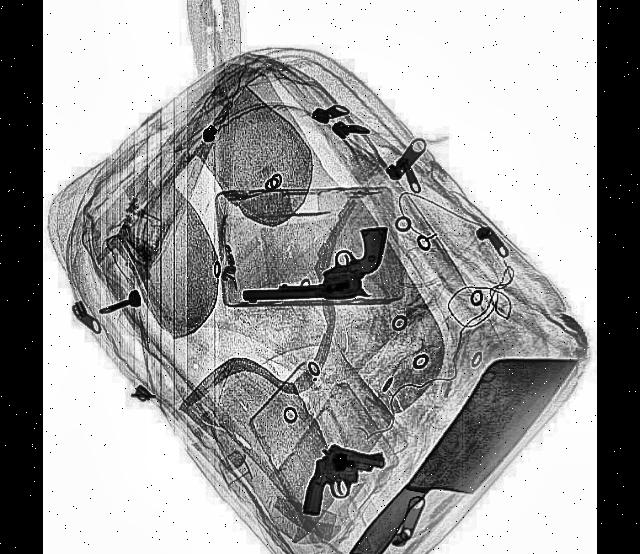Gun: (244, 226, 390, 306), (303, 435, 387, 533)
Knife: (358, 305, 581, 554)
